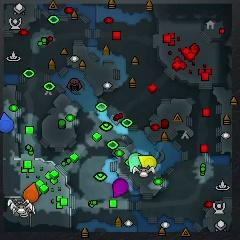p1: (0, 112, 15, 132)
p2: (129, 153, 142, 172)
p3: (113, 179, 128, 198)
p4: (138, 155, 157, 169)
p5: (24, 182, 39, 203)
